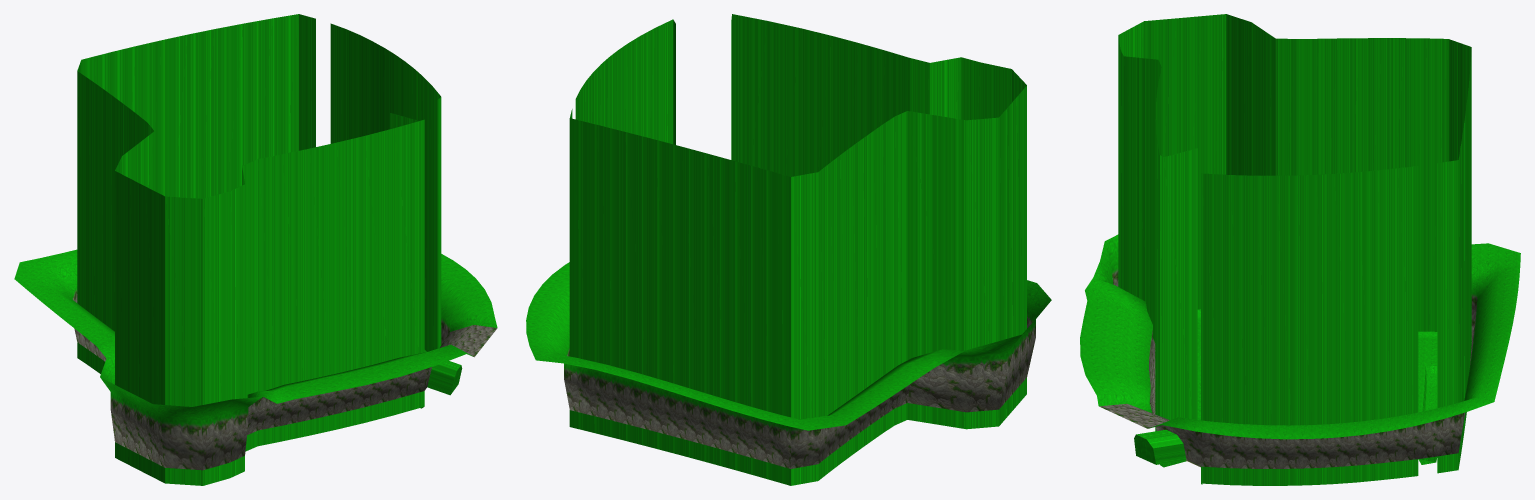
File: Glimmer2.FBX
3 views of the same model, side by side, from view 1: azimuth 30°, elevation 25°; view 2: azimuth 150°, elevation 25°; view 3: azimuth 270°, elevation 25° (orthographic). The views are drawn at different scales.
Parts seen in each view (by area): view 1: Collition, Map; view 2: Collition, Map; view 3: Collition, Map.
Boxes of the visible parts, x1,y1,x2,y2 form: Collition: [77, 14, 441, 485]; Map: [14, 249, 497, 470]; Collition: [569, 14, 1026, 485]; Map: [526, 262, 1051, 468]; Collition: [1118, 14, 1471, 485]; Map: [1080, 234, 1520, 468].
Size of the model in its own units: 3517 by 2531 by 3143.
6 materials, 5 textured.
